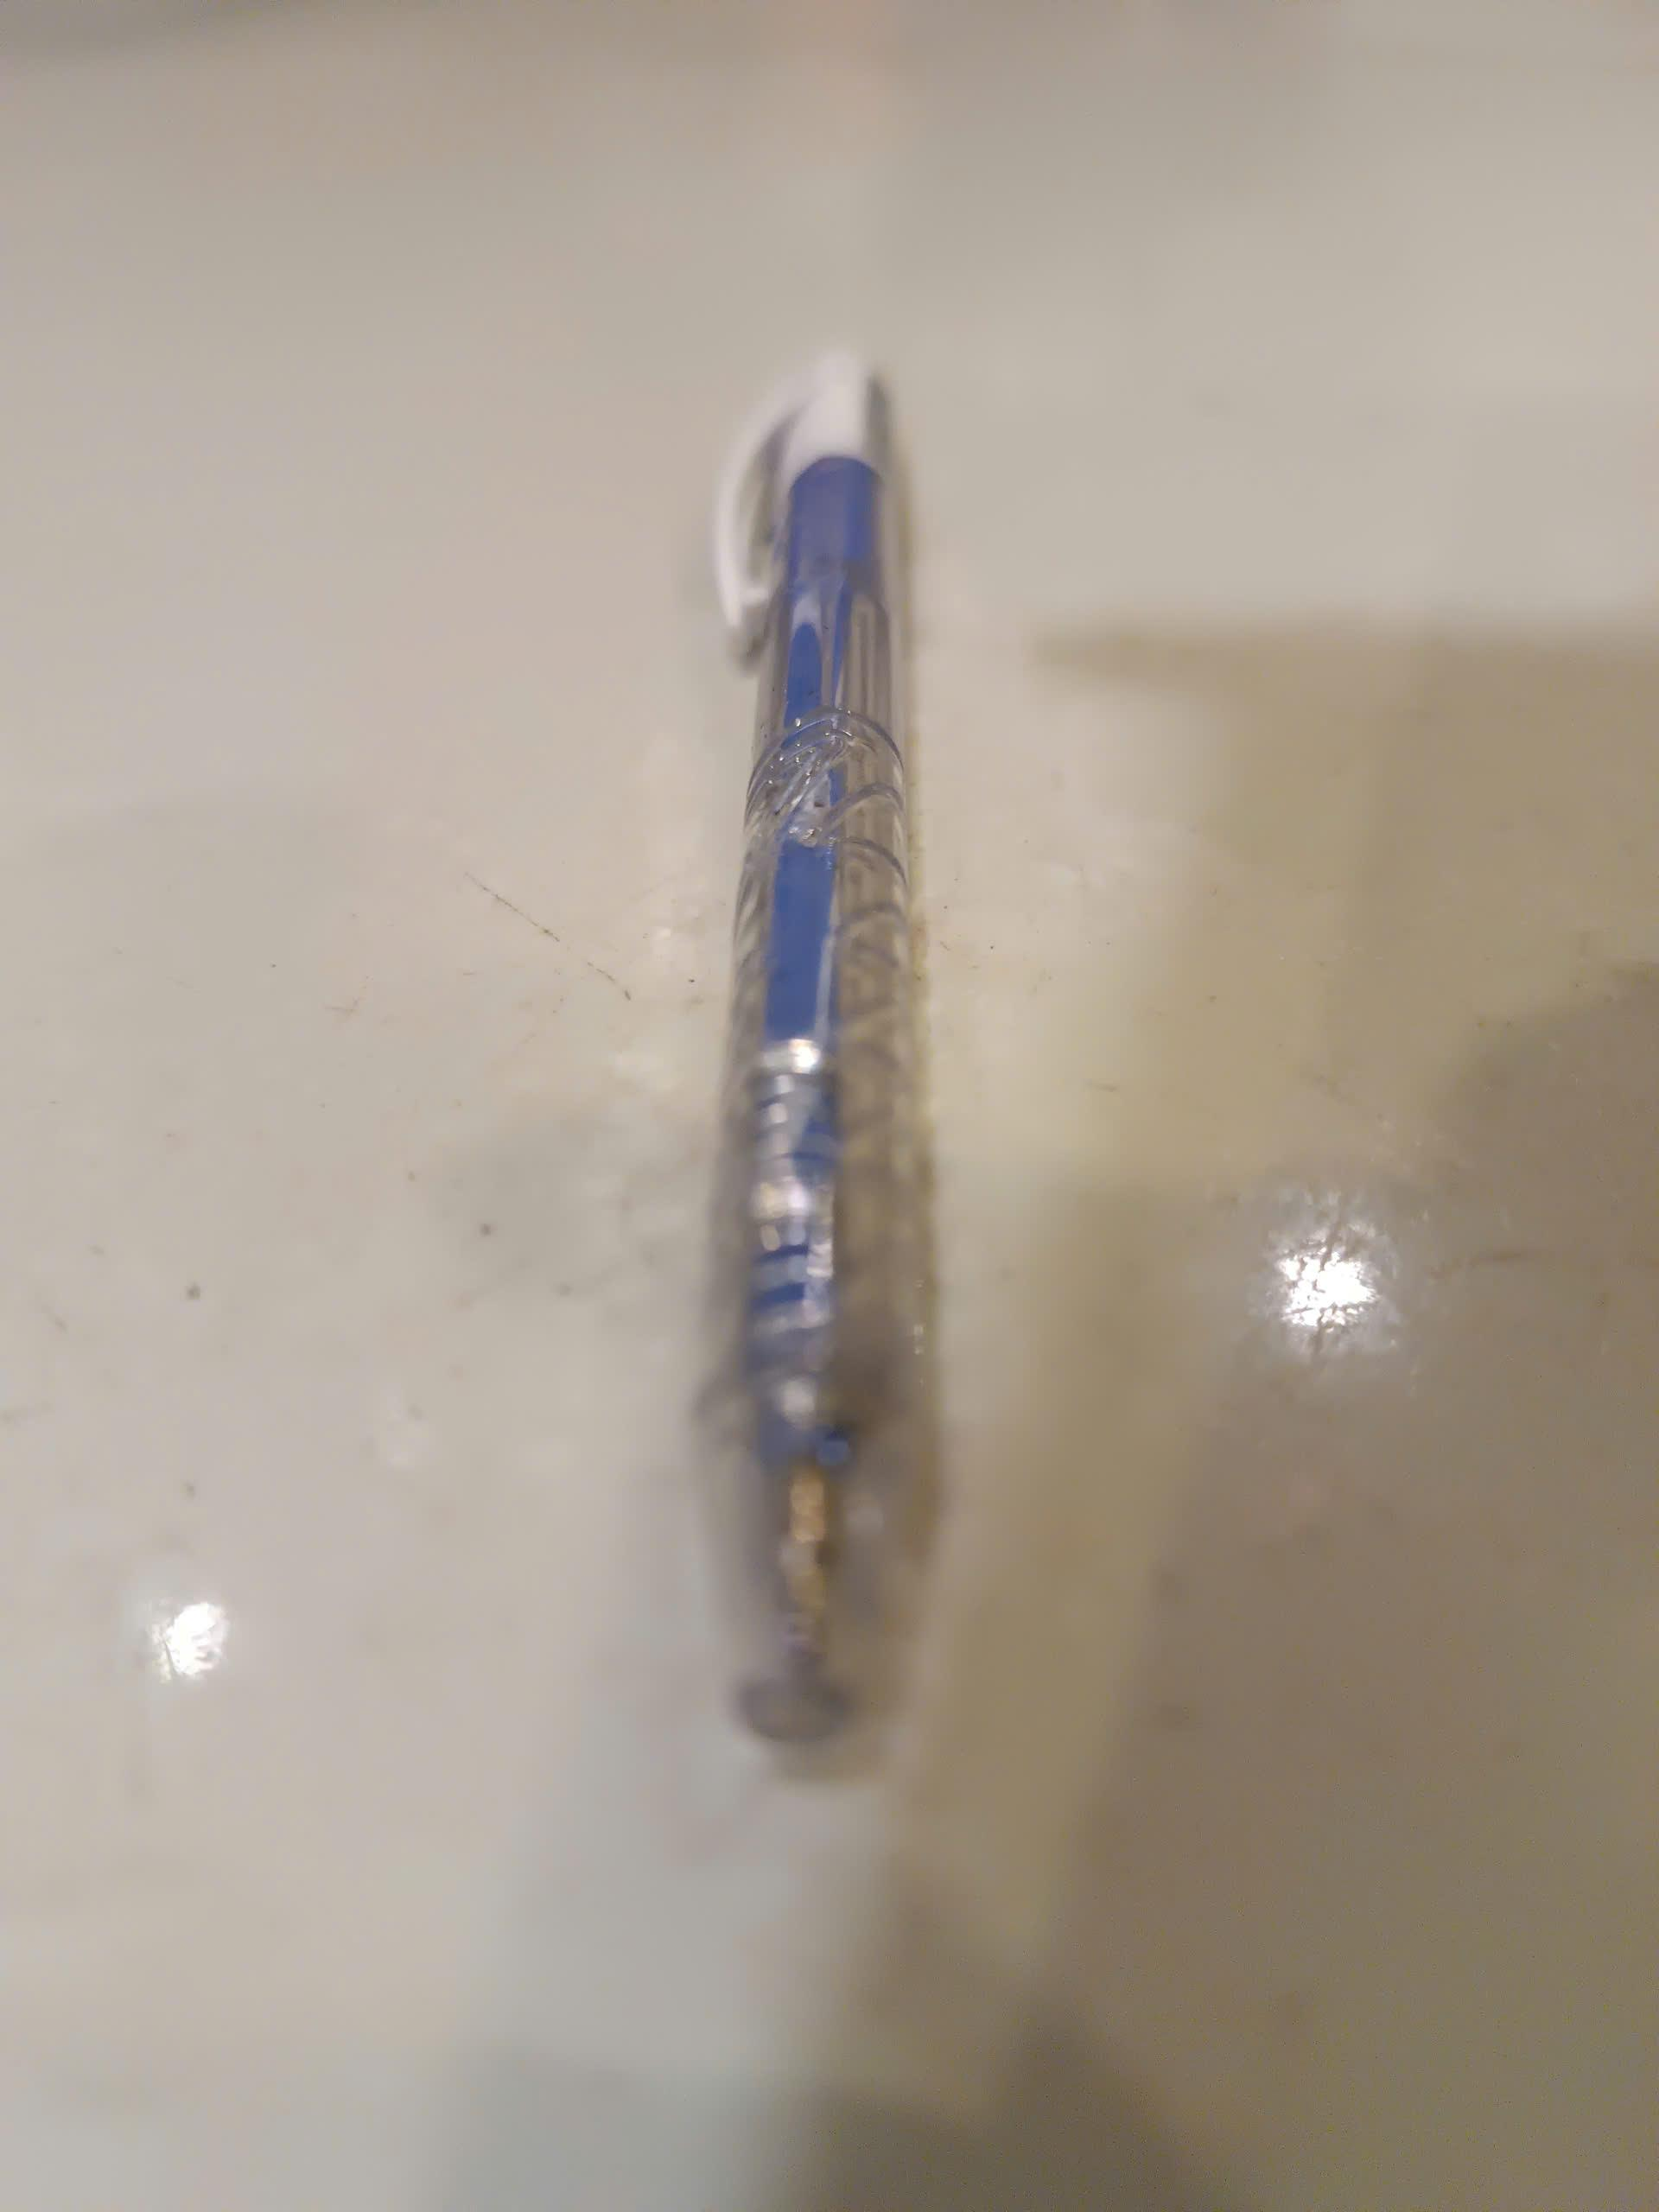Con lai: (709, 355, 960, 1771)
